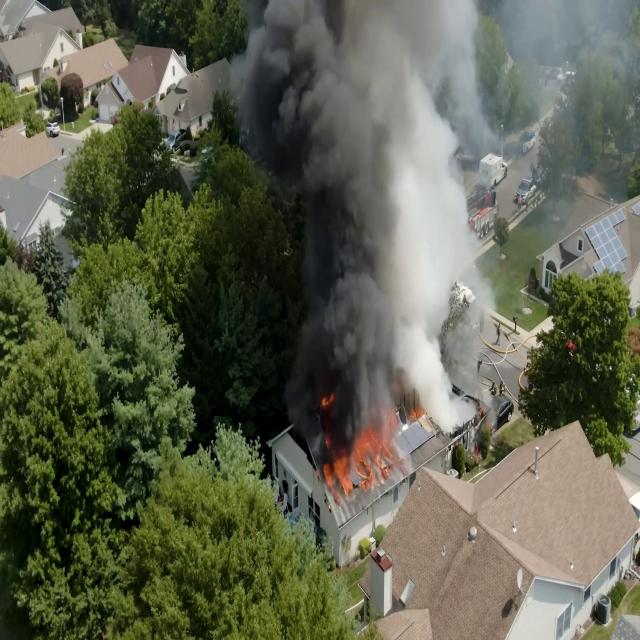fire: (328, 396, 388, 496)
smoke: (364, 14, 485, 373), (301, 0, 417, 300)
